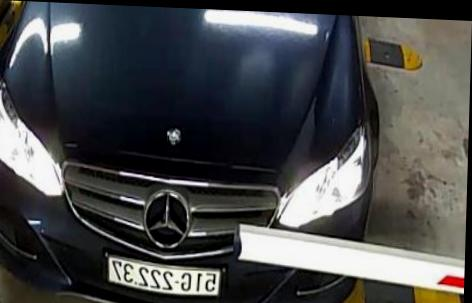License_Plate: (99, 251, 232, 302)
